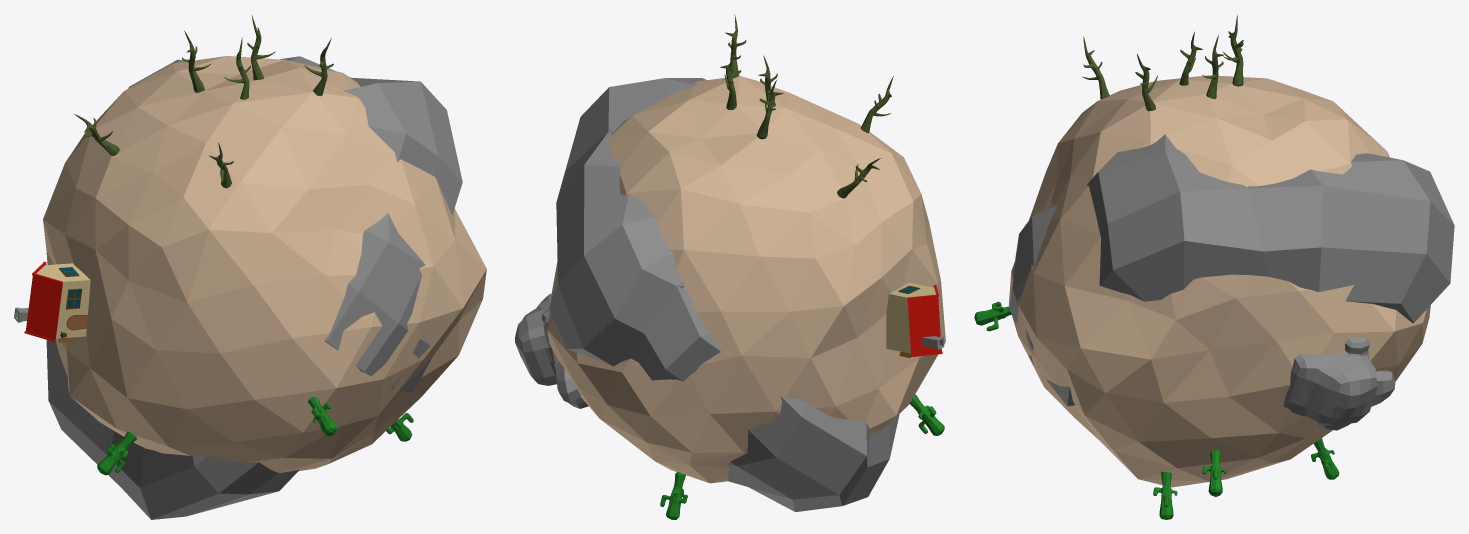
File: MotherStar.fbx
3 views of the same model, side by side, from view 1: azimuth 30°, elevation 25°; view 2: azimuth 150°, elevation 25°; view 3: azimuth 270°, elevation 25° (orthographic). The views are drawn at different scales.
Visible parts, largest first — view 1: Cube.003; view 2: Cube.003; view 3: Cube.003.
Part boxes in pixels (x1,y1,x2,y2): Cube.003: (14, 15, 486, 519); Cube.003: (515, 14, 945, 519); Cube.003: (974, 15, 1454, 519).
Size of the model in its own units: 220 by 240 by 227.
